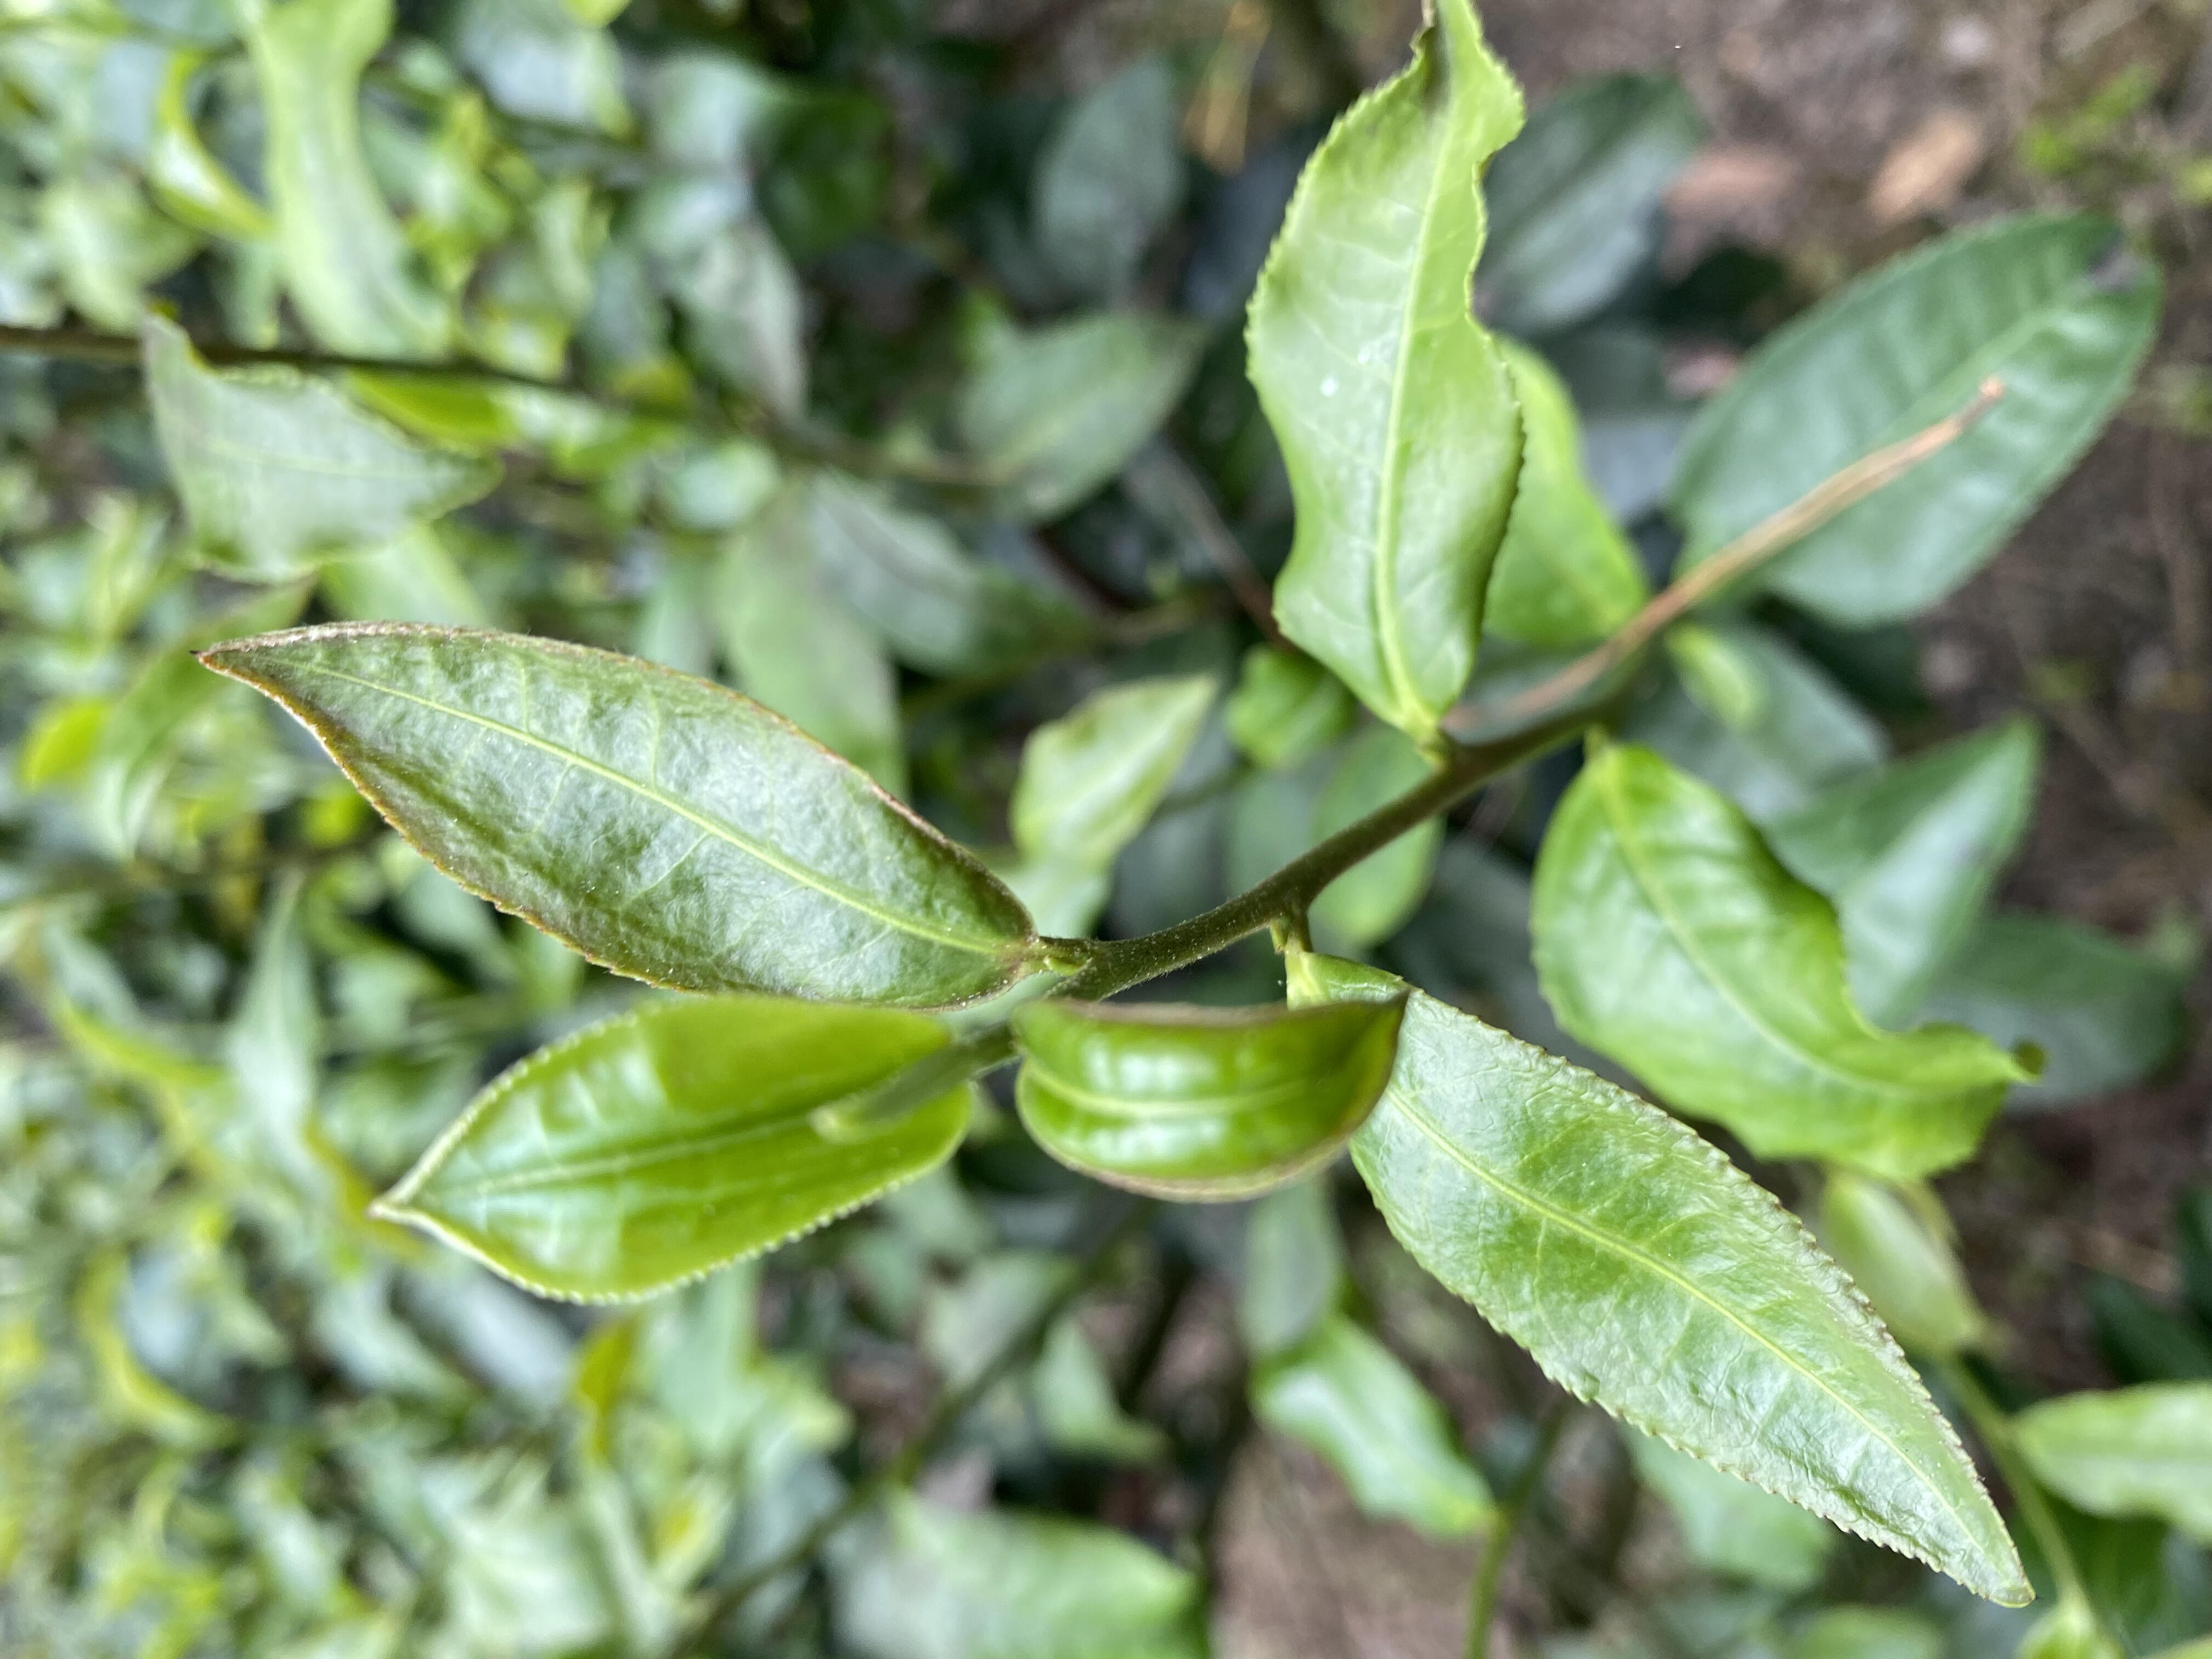healthy: (1284, 950, 2036, 1607), (1526, 748, 2045, 1185), (1238, 2, 1531, 734), (366, 999, 972, 1309)
tanju_low: (197, 619, 1038, 1006), (1007, 986, 1411, 1206)
